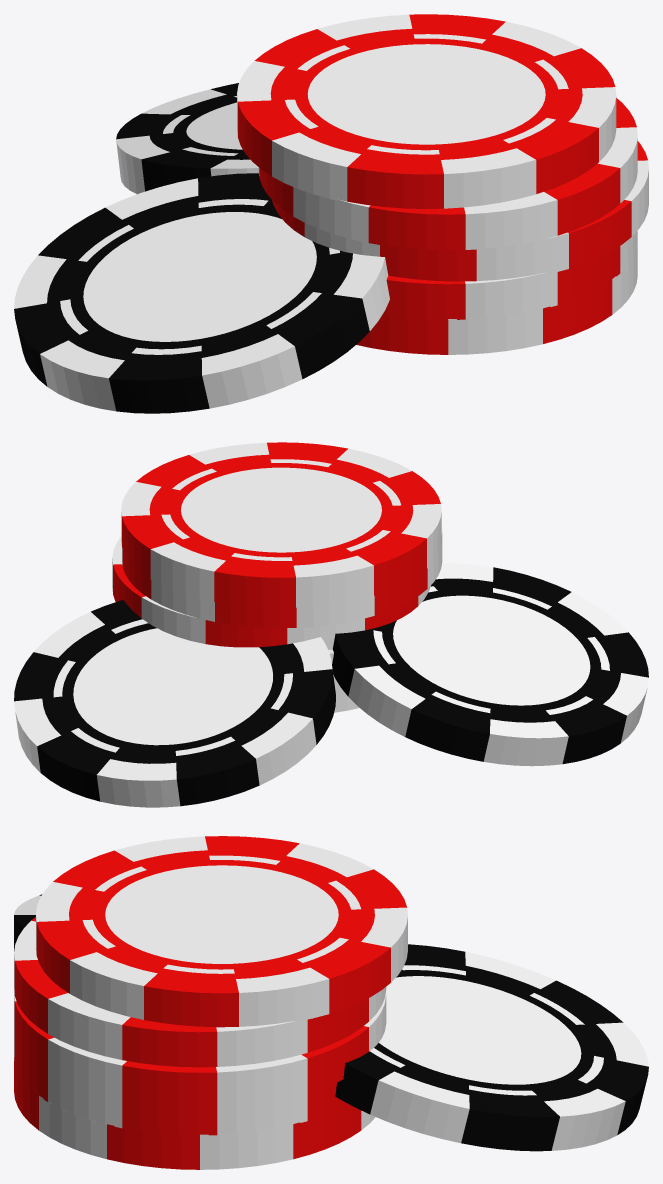
The model's file is stack_red.gltf.
3 views of the same model, one above another, from view 1: azimuth 30°, elevation 25°; view 2: azimuth 150°, elevation 25°; view 3: azimuth 270°, elevation 25° (orthographic). The views are drawn at different scales.
Visible parts, largest first — view 1: sidetwo, Cylinder.004, Cylinder.003, Cylinder.002, sideone, Cylinder, Cylinder.001; view 2: sideone, sidetwo, Cylinder.004, Cylinder.003, Cylinder.002; view 3: Cylinder.004, sideone, Cylinder.003, Cylinder.002, Cylinder, Cylinder.001, sidetwo.
Boxes of the visible parts, x1,y1,x2,y2 form: sidetwo: (14, 173, 389, 413); Cylinder.004: (237, 14, 616, 208); Cylinder.003: (258, 98, 637, 250); Cylinder.002: (272, 141, 648, 281); sideone: (116, 83, 258, 194); Cylinder: (356, 243, 637, 354); Cylinder.001: (382, 231, 637, 319); sideone: (14, 600, 335, 807); sidetwo: (332, 563, 648, 766); Cylinder.004: (121, 442, 441, 607); Cylinder.003: (122, 526, 442, 628); Cylinder.002: (112, 536, 430, 649); Cylinder.004: (36, 836, 407, 1027); sideone: (335, 944, 648, 1151); Cylinder.003: (14, 917, 386, 1067); Cylinder.002: (14, 992, 386, 1107); Cylinder: (14, 1057, 375, 1169); Cylinder.001: (14, 1030, 348, 1135); sidetwo: (14, 894, 41, 951).
Bounding box in the file's own units: 5.12 × 1.59 × 4.91.
